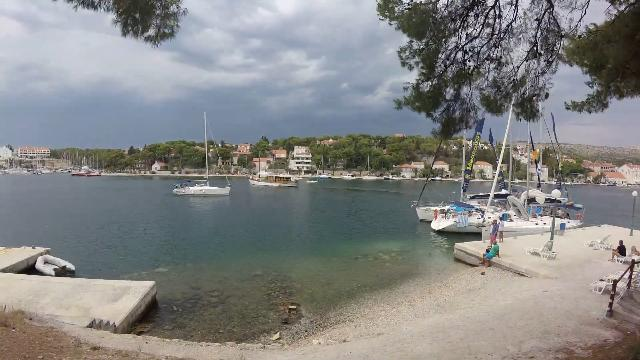Freighter: (245, 166, 303, 190)
Sailboat: (168, 175, 236, 203)
speedboat: (305, 174, 323, 188)
